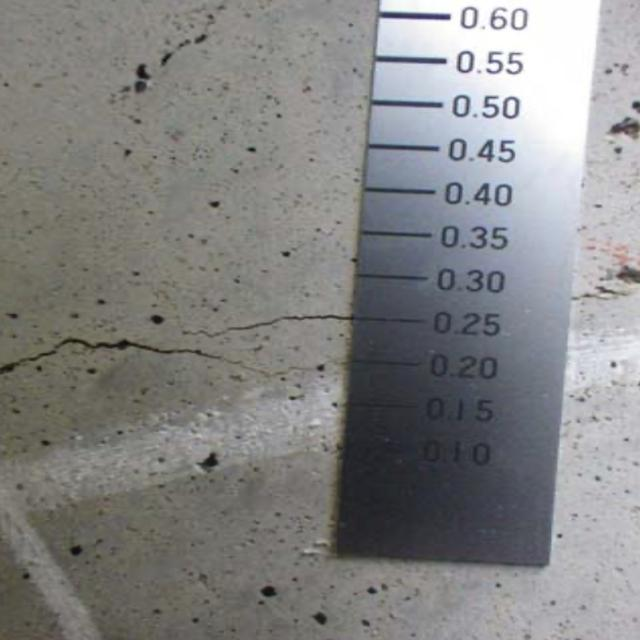crack: (6, 311, 347, 383)
